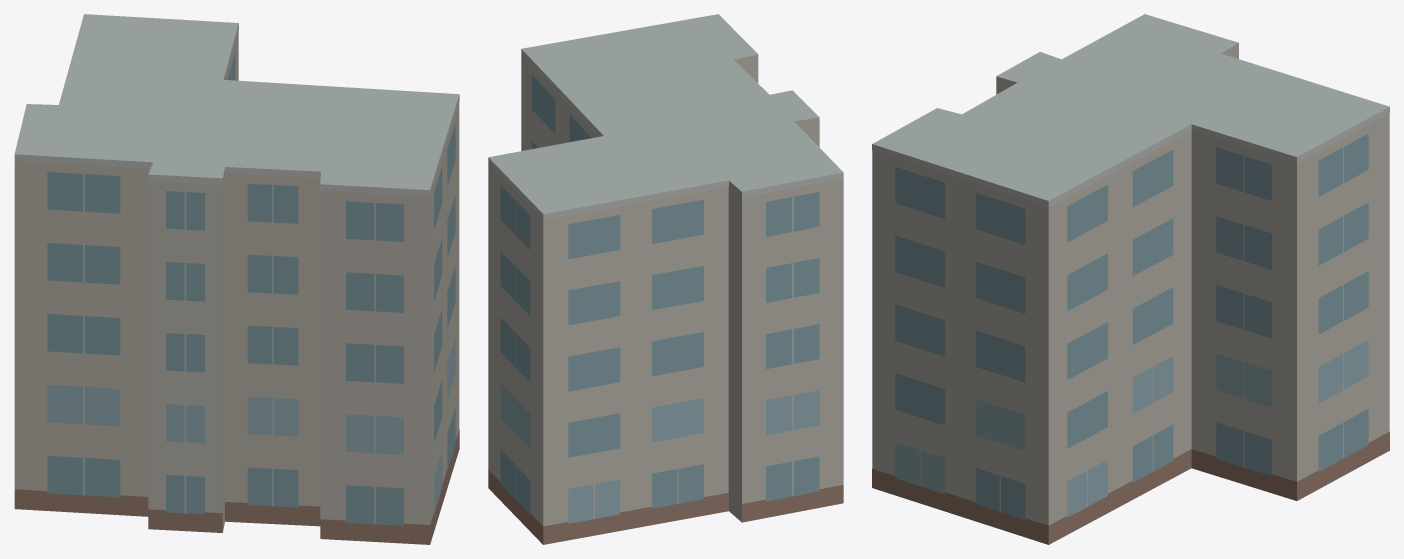
File: survey-upis-32638627.glb
3 views of the same model, side by side, from view 1: azimuth 30°, elevation 25°; view 2: azimuth 150°, elevation 25°; view 3: azimuth 270°, elevation 25° (orthographic). The views are drawn at different scales.
Parts seen in each view (by area): view 1: survey-upis-32638627.tmp; view 2: survey-upis-32638627.tmp; view 3: survey-upis-32638627.tmp.
Part boxes in pixels (left/top/right/bottom): survey-upis-32638627.tmp: left=14, top=14, right=459, bottom=544; survey-upis-32638627.tmp: left=488, top=14, right=843, bottom=544; survey-upis-32638627.tmp: left=872, top=14, right=1389, bottom=544.
Size of the model in its own units: 15.52 by 13.3 by 18.15.
